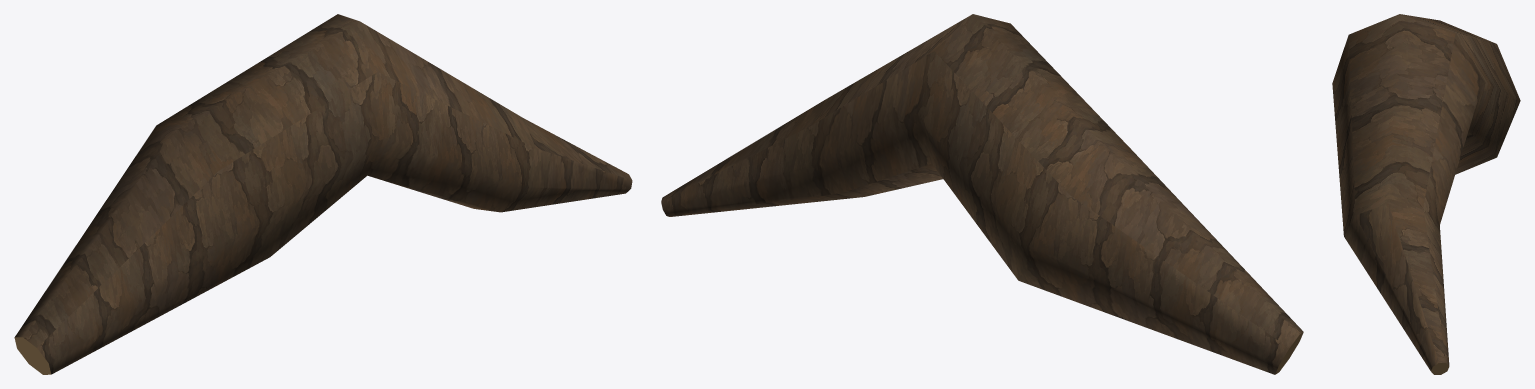
Rendered from render.glb.
3 views of the same model, side by side, from view 1: azimuth 30°, elevation 25°; view 2: azimuth 150°, elevation 25°; view 3: azimuth 270°, elevation 25° (orthographic). The views are drawn at different scales.
Parts seen in each view (by area): view 1: woodland-snapped-root · evaluated preview mesh; view 2: woodland-snapped-root · evaluated preview mesh; view 3: woodland-snapped-root · evaluated preview mesh.
Part boxes in pixels (bbox=[...]): woodland-snapped-root · evaluated preview mesh: bbox=[14, 14, 632, 374]; woodland-snapped-root · evaluated preview mesh: bbox=[661, 14, 1303, 374]; woodland-snapped-root · evaluated preview mesh: bbox=[1332, 14, 1520, 374].
Bounding box in the file's own units: 4.09 × 1.76 × 1.17.
2 materials, 1 textured.
